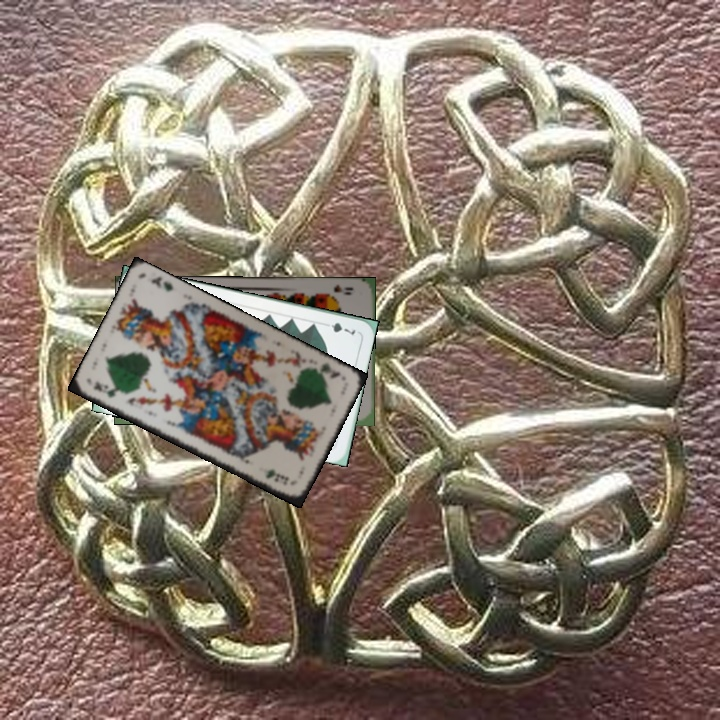G7: (319, 318, 358, 338)
GK: (89, 377, 120, 401), (317, 359, 343, 381)
S9: (318, 280, 356, 300)
